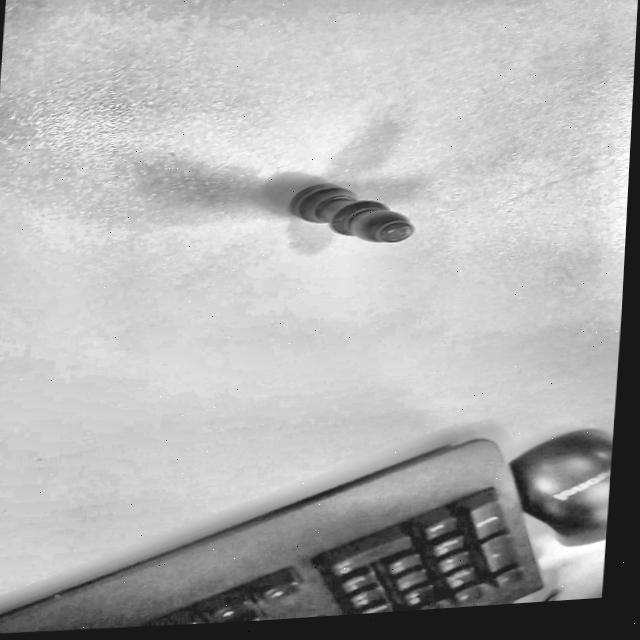black-bishop: (278, 170, 423, 254)
